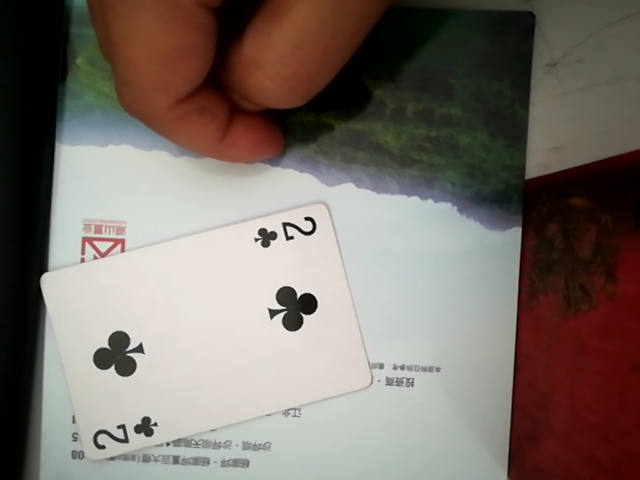mh 2: (47, 190, 374, 457)
